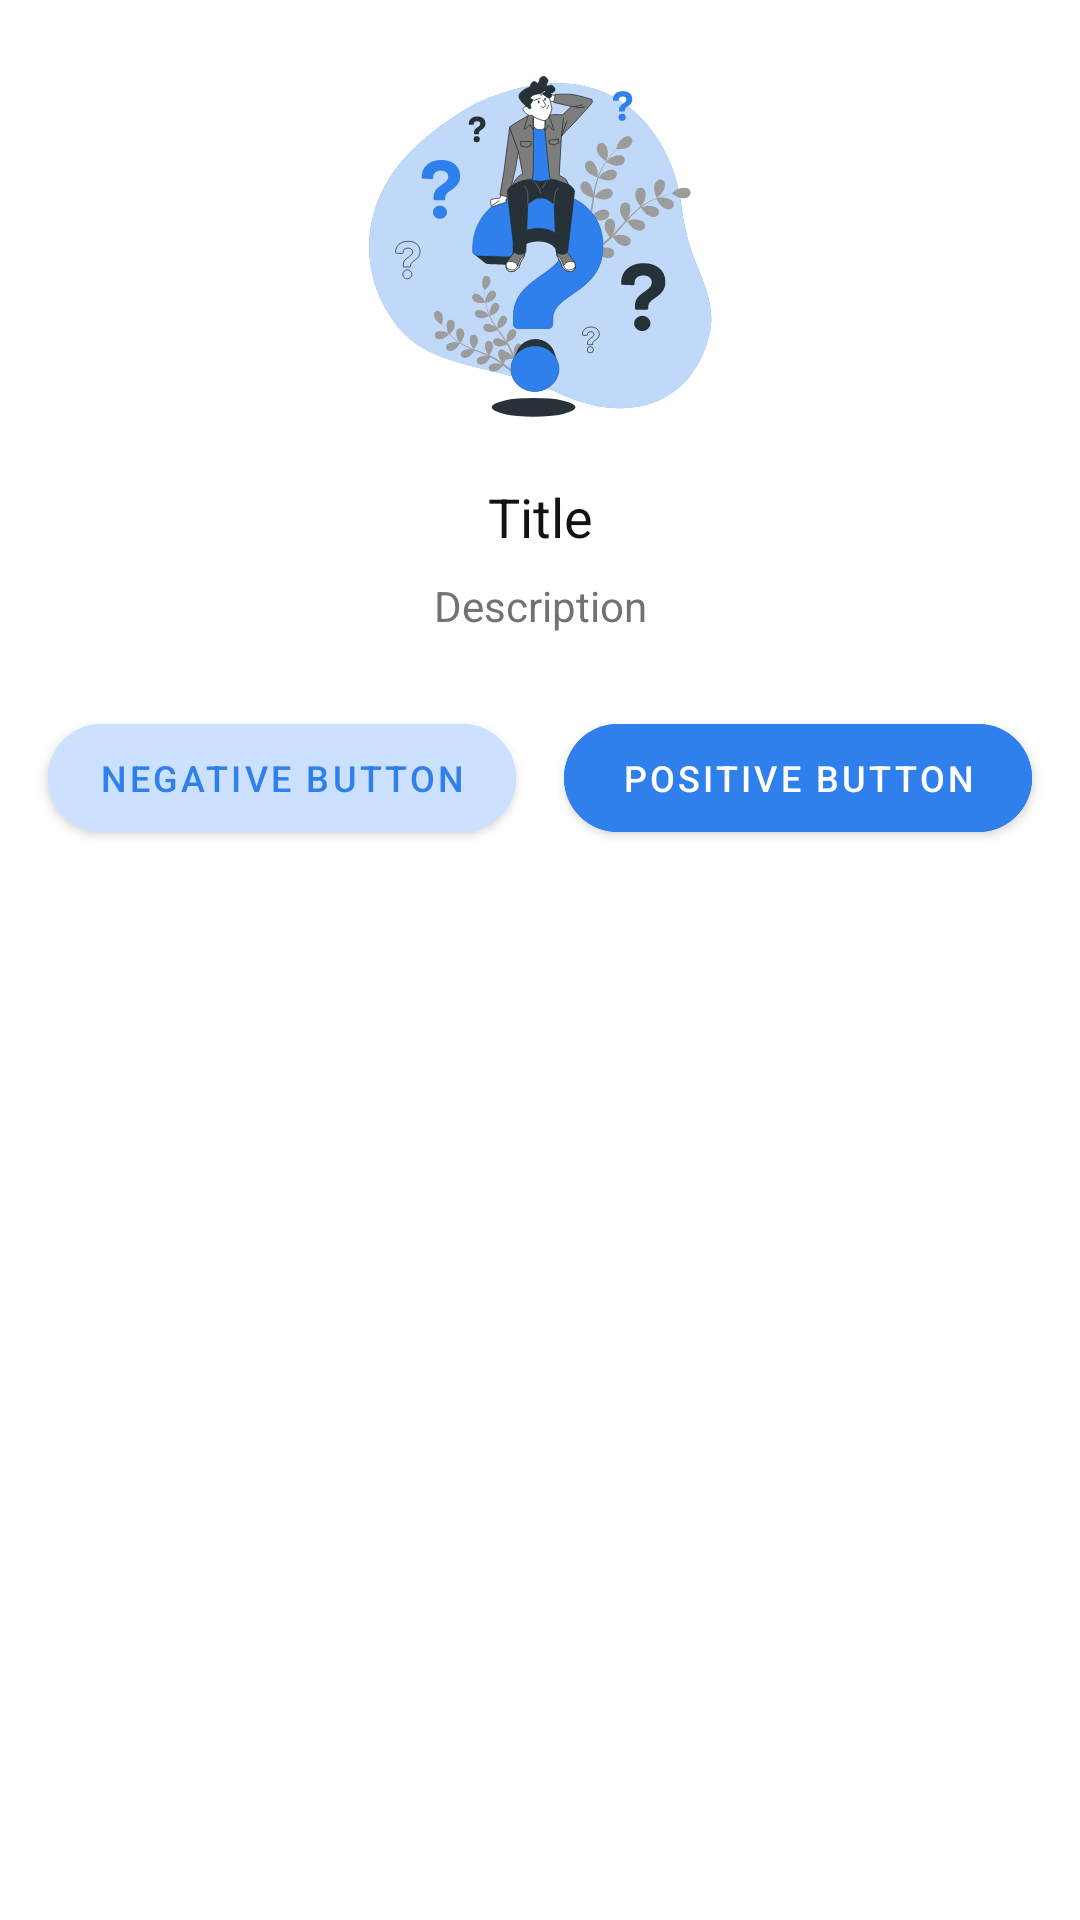

Named icons in this screenshot (1080x1920) and their bounding boxes, (x1, y1, x2, y2):
questions: (369, 76, 712, 417)
